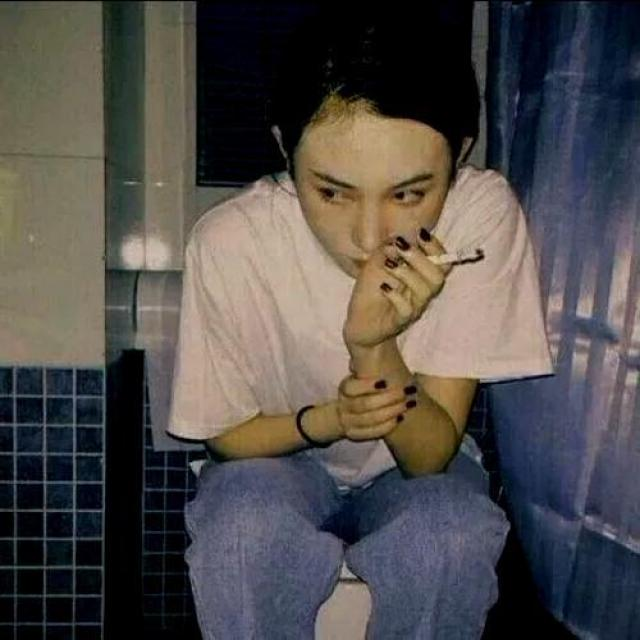cigarette: (388, 224, 494, 285)
